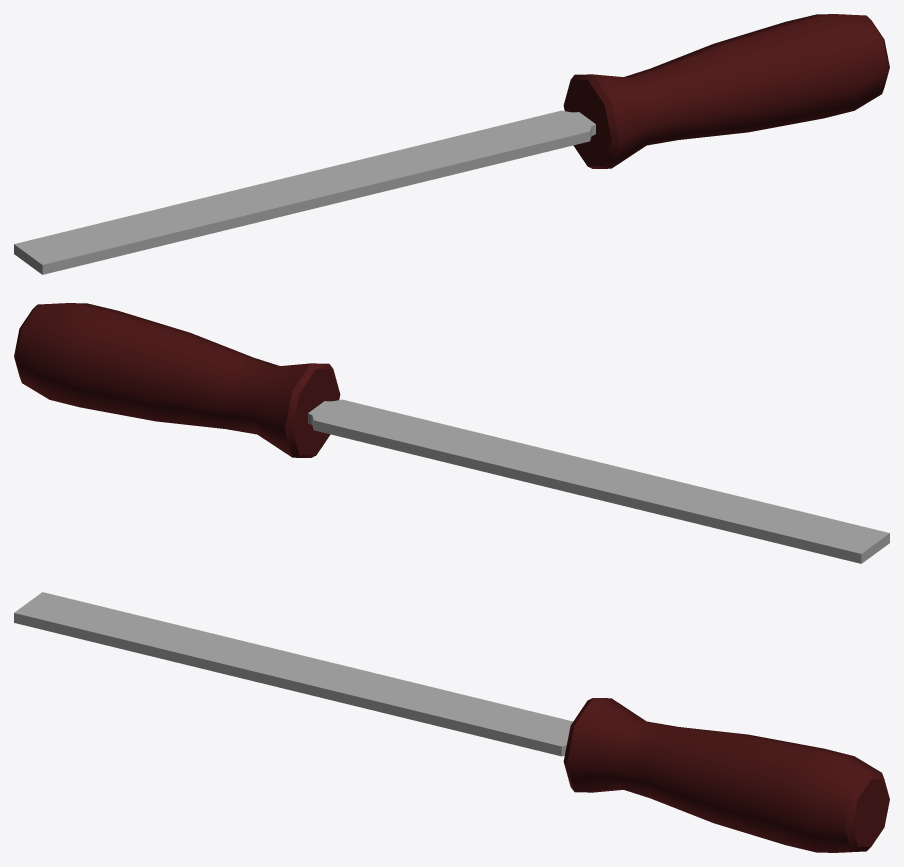
3 renders of one model, top to bottom at view 1: azimuth 30°, elevation 25°; view 2: azimuth 150°, elevation 25°; view 3: azimuth 330°, elevation 25°, orthographic.
Visible parts, largest first — view 1: fileHandle_MLo, file_MLo; view 2: fileHandle_MLo, file_MLo; view 3: fileHandle_MLo, file_MLo.
Part boxes in pixels (x1,y1,x2,y2): fileHandle_MLo: (563,14,889,168); file_MLo: (14,110,595,274); fileHandle_MLo: (14,303,340,457); file_MLo: (308,399,889,563); fileHandle_MLo: (563,698,889,852); file_MLo: (14,592,572,756).
Bounding box in the file's own units: 22.8 × 2.52 × 2.52.
